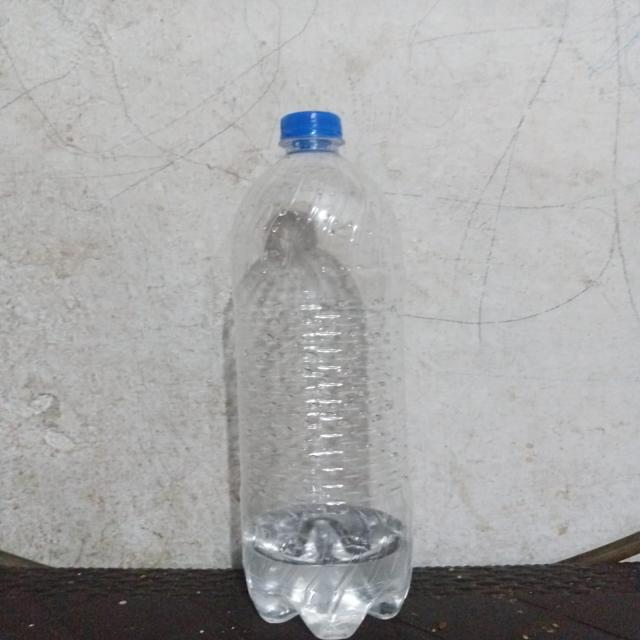bottle: (202, 90, 430, 640)
cap: (270, 104, 350, 152)
